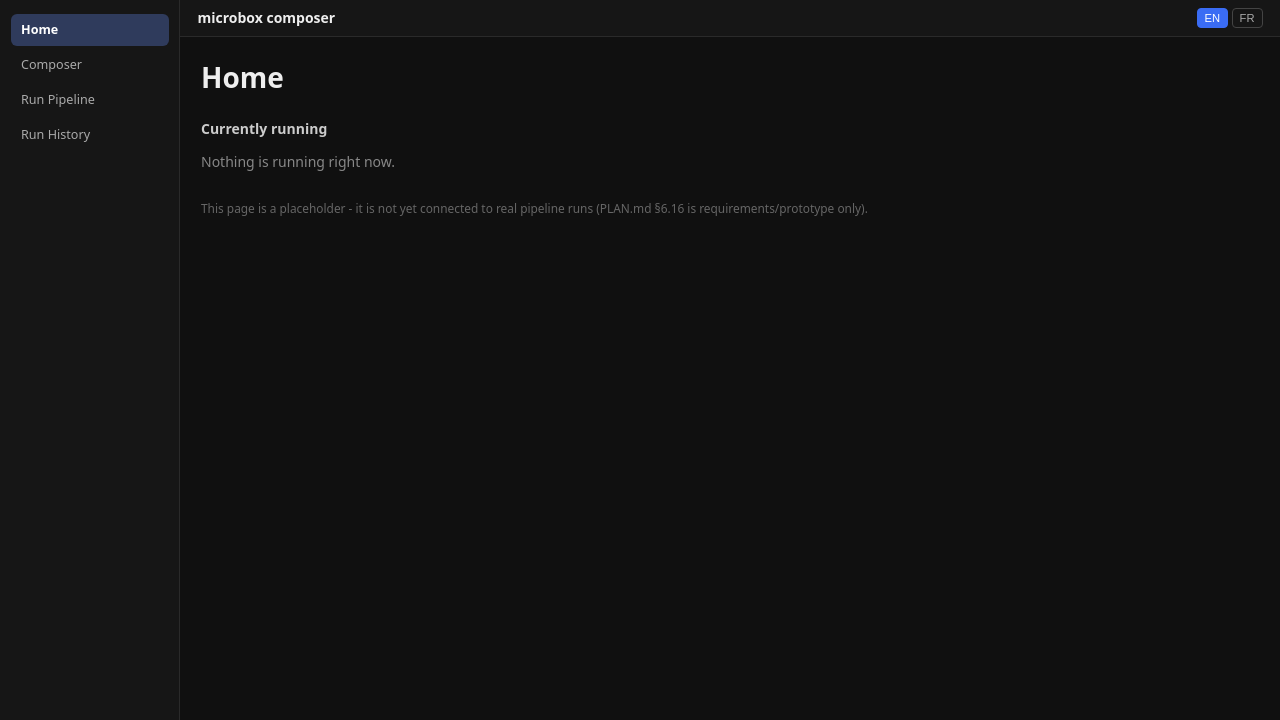
Test: App routing › clicking Run History in the left page nav navigates there
What coordinates should you click on to do the following:
click the link "Run History"
I would click on:
 (56, 135)
Its box is [21, 126, 90, 143].
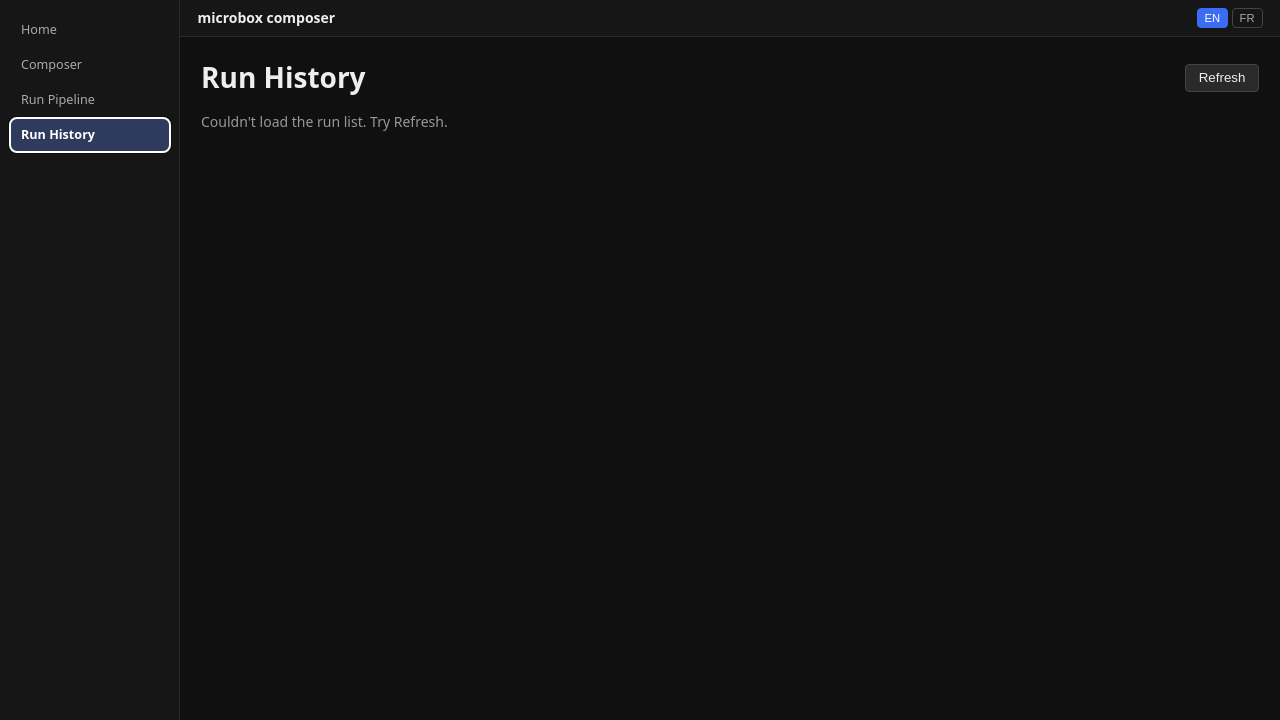
Now the heading "Run History" is shown, box [201, 58, 366, 98]
